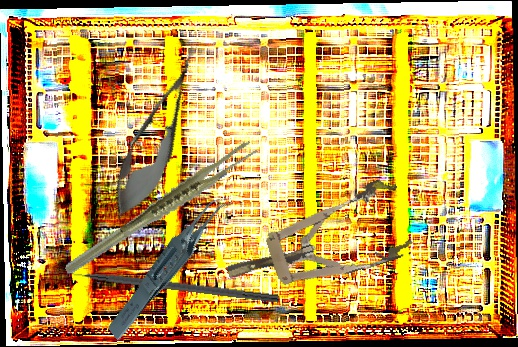Hook Surgical: (55, 265, 280, 303)
Micro Scissor: (98, 35, 217, 230)
Speculum: (215, 175, 418, 310)
Tissue Forceps: (47, 138, 274, 277), (84, 192, 258, 342)
